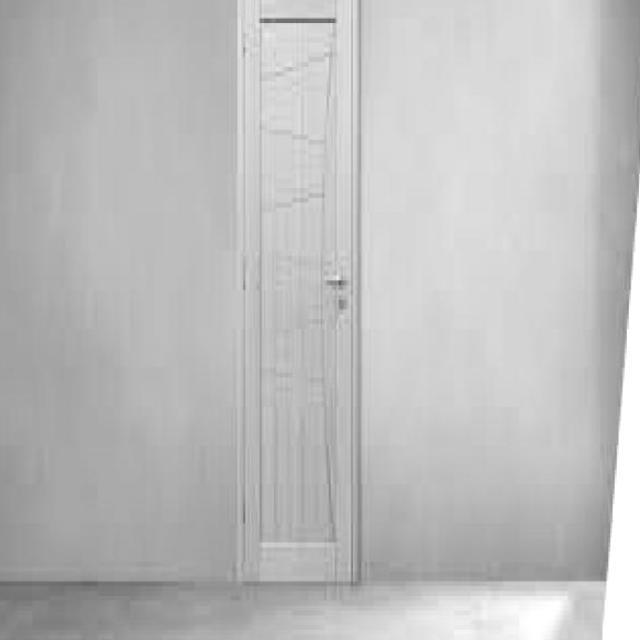door: (236, 4, 362, 582)
